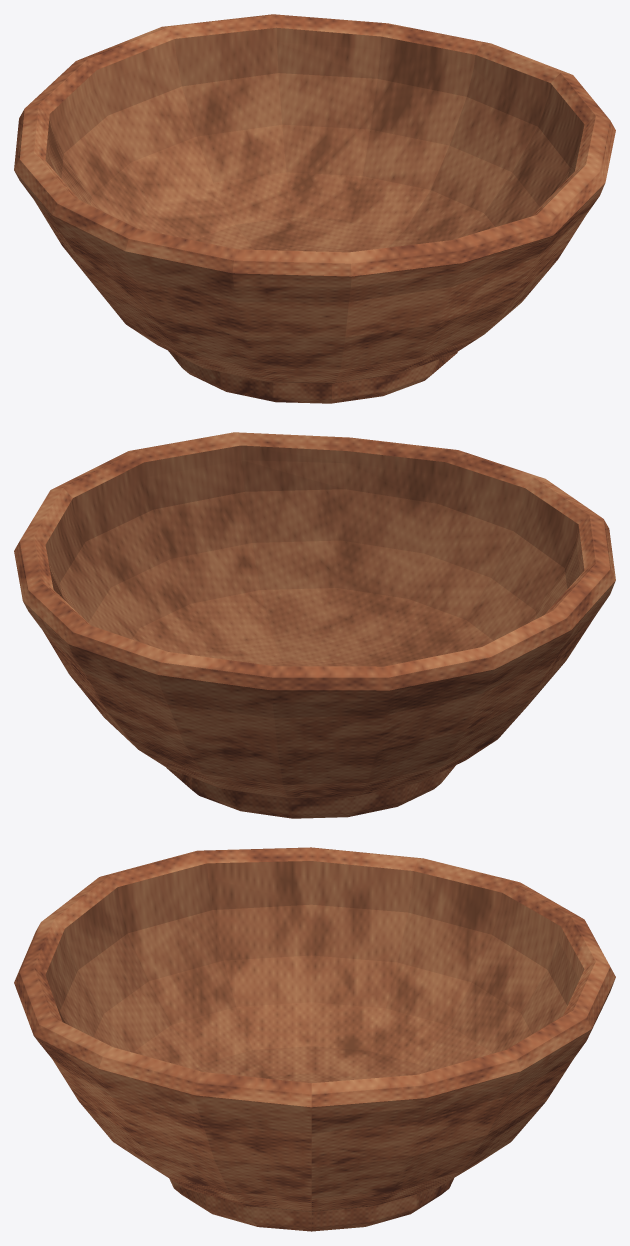
The model's file is Tigela-de-Barro.glb.
3 views of the same model, one above another, from view 1: azimuth 30°, elevation 25°; view 2: azimuth 150°, elevation 25°; view 3: azimuth 270°, elevation 25° (orthographic).
Visible parts, largest first — view 1: Interior, Corpo; view 2: Interior, Corpo; view 3: Interior, Corpo.
Part boxes in pixels (<box>): Interior: <box>45,27,584,252</box>; Corpo: <box>14,14,615,403</box>; Interior: <box>45,445,584,666</box>; Corpo: <box>14,432,615,818</box>; Interior: <box>45,861,584,1083</box>; Corpo: <box>14,847,615,1231</box>.
Bounding box in the file's own units: 0.21 × 0.0812 × 0.21.
Materials: 2 (2 with a texture image).
